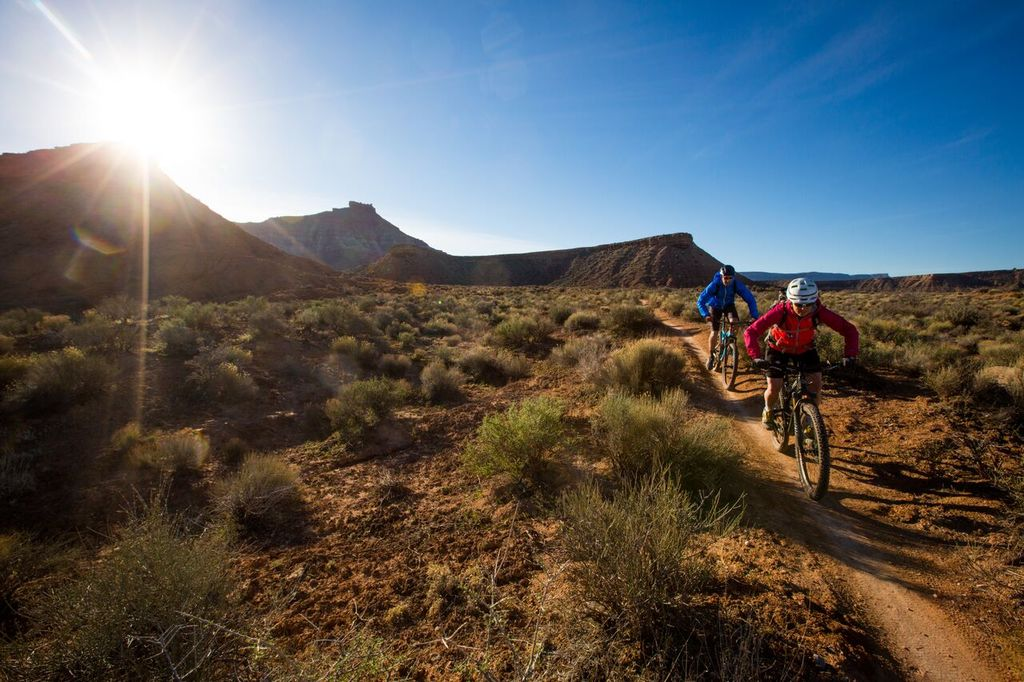Bike_toward: (755, 346, 861, 508)
